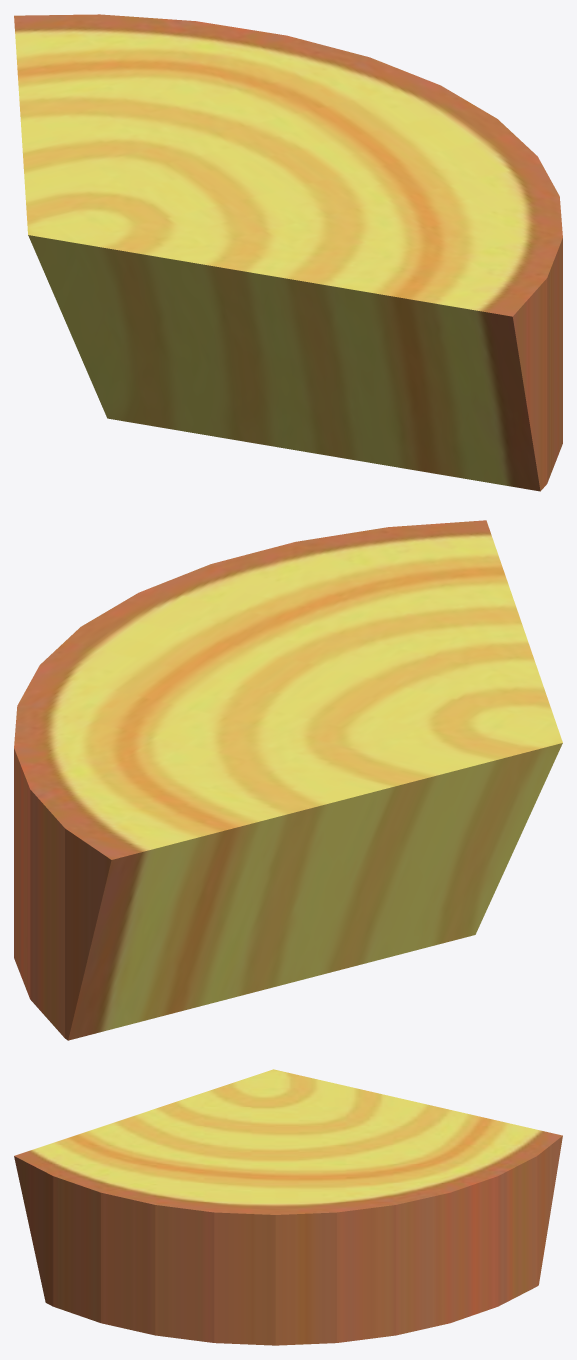
Rendered from Candy2.fbx.
The picture shows the model from 3 angles, top to bottom: view 1: azimuth 30°, elevation 25°; view 2: azimuth 150°, elevation 25°; view 3: azimuth 270°, elevation 25°; orthographic projection. The views are drawn at different scales.
Parts seen in each view (by area): view 1: Cylinder.002; view 2: Cylinder.002; view 3: Cylinder.002.
Part boxes in pixels (x1,y1,x2,y2): Cylinder.002: (14, 14, 562, 491); Cylinder.002: (14, 520, 562, 1040); Cylinder.002: (14, 1069, 562, 1345).
Size of the model in its own units: 110 by 45.81 by 175.
